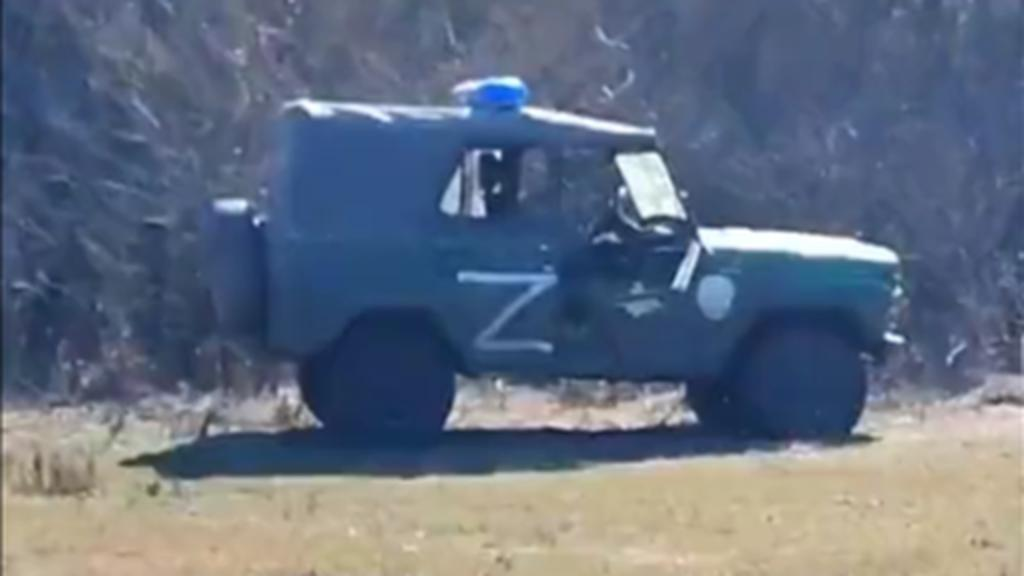CAR: (192, 68, 916, 452)
